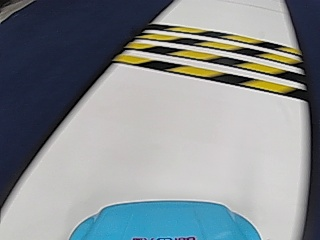bump: (143, 24, 288, 93)
